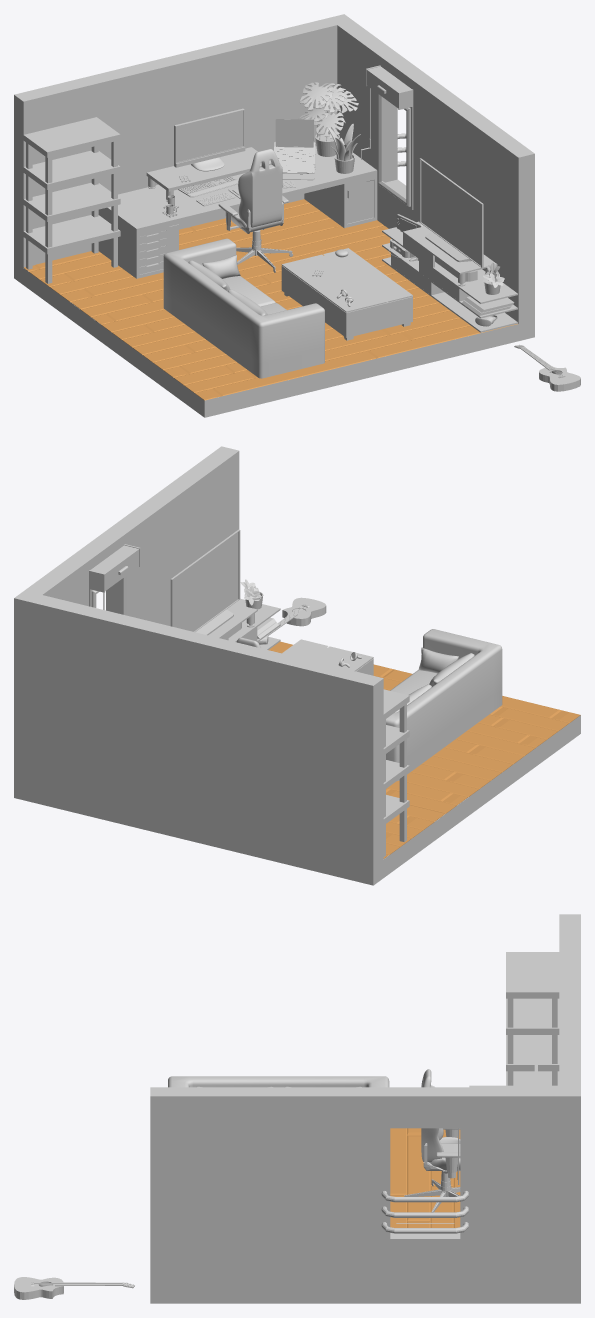
Rendered from portfolio.glb.
3 views of the same model, one above another, from view 1: azimuth 30°, elevation 25°; view 2: azimuth 150°, elevation 25°; view 3: azimuth 270°, elevation 25° (orthographic). The views are drawn at different scales.
Visible parts, largest first — view 1: Plane, Plane.006, Cube.004, Cube.450, Cube, Plane.005, Cube.011, Cube.017, Cube.016, Cube.008, Cube.014, Cube.015 (+20 smaller); view 2: Plane, Plane.006, Cube.004, Plane.005, Cube.450, Cube.021, Cube.017, Plane.015, Plane.010, Cube.438, Cube.437, Cube.451; view 3: Plane, Plane.006, Cube.004, Cube.016, Cube.015, Cube.014, Cube.017, Plane.015, Cube.425, Cube.013, Plane.013, Plane.012 (+1 smaller).
Part boxes in pixels (left/top/right/bottom): Plane: left=14, top=14, right=534, bottom=417; Plane.006: left=24, top=199, right=517, bottom=400; Cube.004: left=163, top=238, right=324, bottom=378; Cube.450: left=281, top=248, right=412, bottom=337; Cube: left=102, top=146, right=377, bottom=234; Plane.005: left=419, top=158, right=483, bottom=267; Cube.011: left=174, top=108, right=245, bottom=167; Cube.017: left=26, top=140, right=117, bottom=283; Cube.016: left=23, top=117, right=120, bottom=157; Cube.008: left=250, top=149, right=282, bottom=227; Cube.014: left=23, top=182, right=120, bottom=221; Cube.015: left=23, top=150, right=120, bottom=189; Plane: left=14, top=446, right=580, bottom=885; Plane.006: left=268, top=641, right=580, bottom=858; Cube.004: left=386, top=629, right=502, bottom=780; Plane.005: left=170, top=529, right=240, bottom=631; Cube.450: left=282, top=639, right=373, bottom=675; Cube.021: left=89, top=544, right=140, bottom=592; Cube.017: left=383, top=704, right=406, bottom=856; Plane.015: left=282, top=597, right=326, bottom=626; Plane.010: left=418, top=647, right=458, bottom=673; Cube.438: left=208, top=604, right=257, bottom=638; Cube.437: left=228, top=598, right=280, bottom=642; Cube.451: left=390, top=670, right=436, bottom=694; Plane: left=150, top=914, right=580, bottom=1303; Plane.006: left=390, top=1128, right=460, bottom=1227; Cube.004: left=168, top=1076, right=389, bottom=1087; Cube.016: left=506, top=952, right=559, bottom=998; Cube.015: left=506, top=998, right=559, bottom=1034; Cube.014: left=506, top=1035, right=559, bottom=1071; Cube.017: left=507, top=998, right=557, bottom=1085; Plane.015: left=14, top=1277, right=63, bottom=1299; Cube.425: left=421, top=1085, right=443, bottom=1162; Cube.013: left=506, top=1071, right=559, bottom=1085; Plane.013: left=381, top=1206, right=468, bottom=1217; Plane.012: left=381, top=1222, right=468, bottom=1233.
Bounding box in the file's own units: 20.82 × 10.75 × 26.34.
